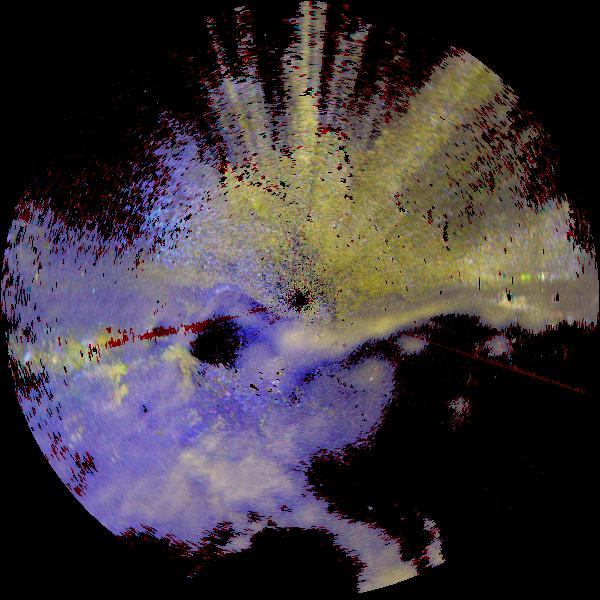roost: (145, 344, 202, 401), (83, 364, 131, 412)
